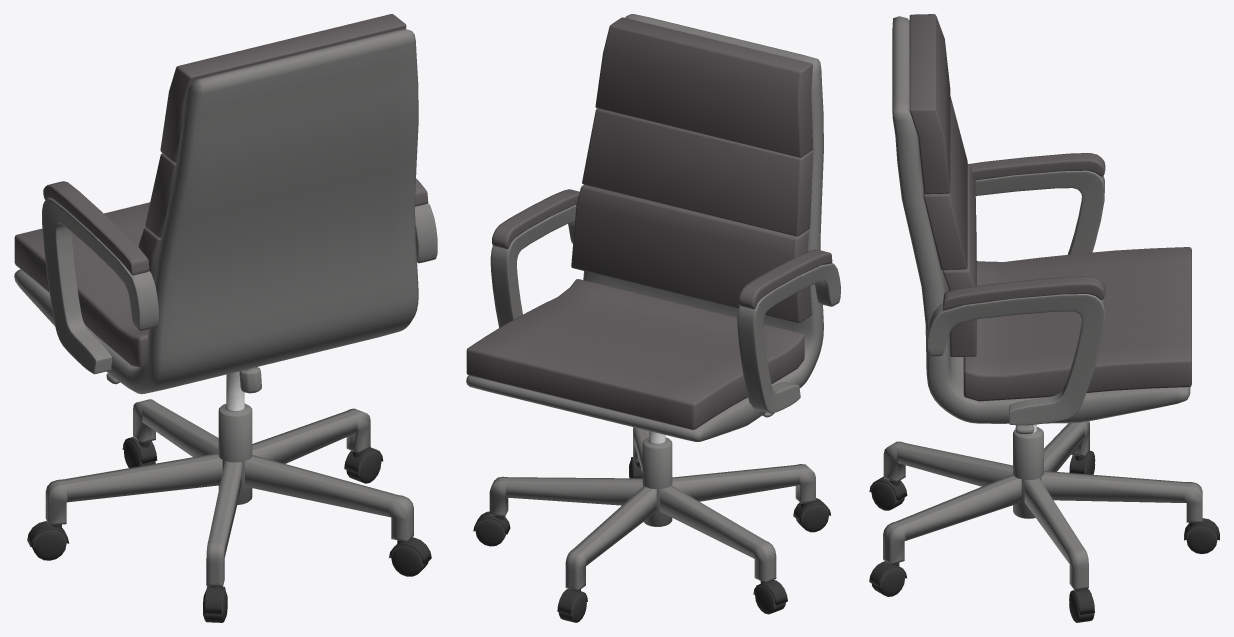
Rendered from Chair32.fbx.
The picture shows the model from 3 angles, left to right: view 1: azimuth 30°, elevation 25°; view 2: azimuth 150°, elevation 25°; view 3: azimuth 270°, elevation 25°; orthographic projection. The views are drawn at different scales.
Visible parts, largest first — view 1: Chair32; view 2: Chair32; view 3: Chair32.
Boxes of the visible parts, x1,y1,x2,y2 form: Chair32: (14, 14, 437, 622); Chair32: (466, 14, 840, 622); Chair32: (869, 14, 1219, 622).
Size of the model in its own units: 70.94 by 104 by 67.49.
